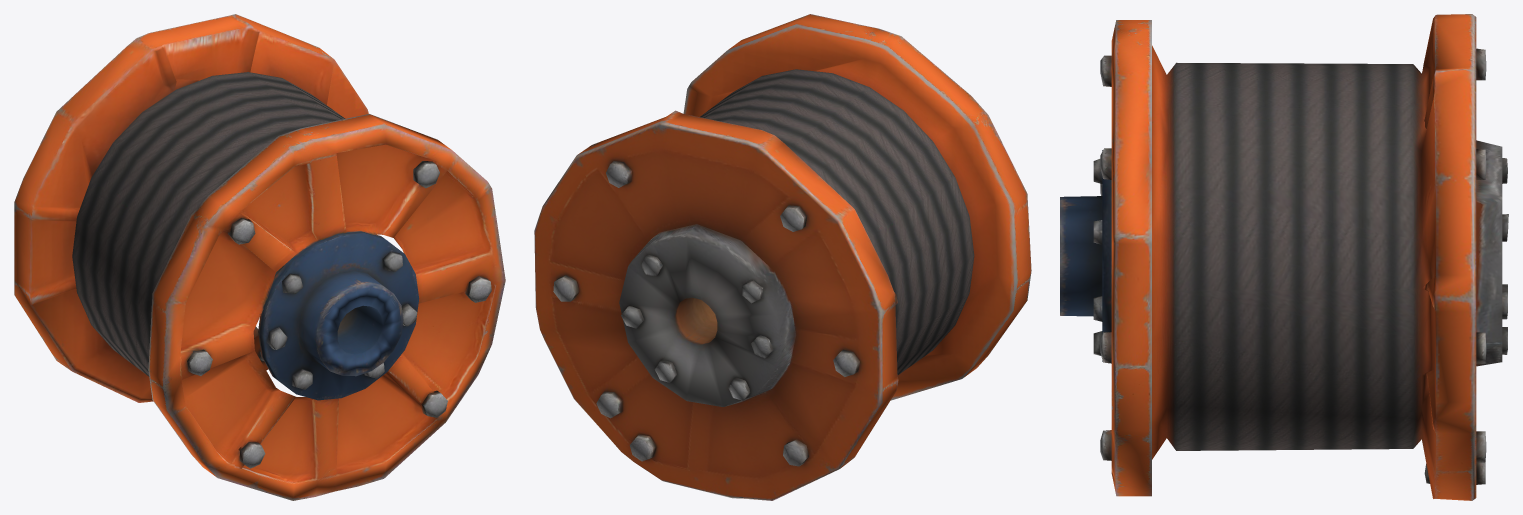
Rendered from 09-cable-spool.glb.
3 renders of one model, left to right at view 1: azimuth 30°, elevation 25°; view 2: azimuth 150°, elevation 25°; view 3: azimuth 270°, elevation 25°, orthographic. The views are drawn at different scales.
Visible parts, largest first — view 1: tripo_node_5ea47c49-6a13-4b37-8ffb-06fac8619804; view 2: tripo_node_5ea47c49-6a13-4b37-8ffb-06fac8619804; view 3: tripo_node_5ea47c49-6a13-4b37-8ffb-06fac8619804.
Boxes of the visible parts, x1,y1,x2,y2 form: tripo_node_5ea47c49-6a13-4b37-8ffb-06fac8619804: (14, 14, 505, 500); tripo_node_5ea47c49-6a13-4b37-8ffb-06fac8619804: (534, 14, 1031, 500); tripo_node_5ea47c49-6a13-4b37-8ffb-06fac8619804: (1060, 14, 1508, 500).
Size of the model in its own units: 0.6047 by 0.6 by 0.5669.
1 material, 1 textured.
